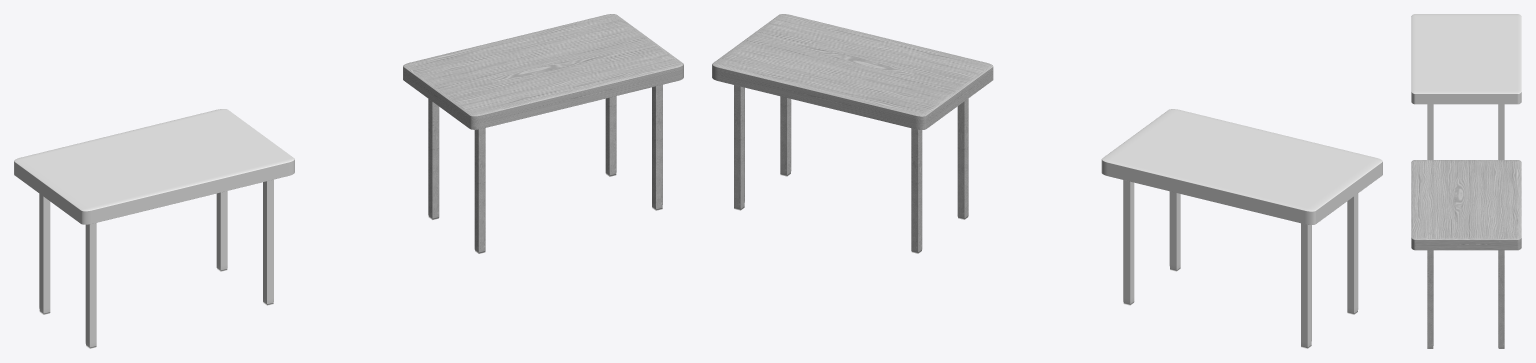
File: Table1.gltf
3 views of the same model, side by side, from view 1: azimuth 30°, elevation 25°; view 2: azimuth 150°, elevation 25°; view 3: azimuth 270°, elevation 25° (orthographic). The views are drawn at different scales.
Parts seen in each view (by area): view 1: Merged Objects, Merged Objects 1; view 2: Merged Objects 1, Merged Objects; view 3: Merged Objects, Merged Objects 1.
Part boxes in pixels (x1,y1,x2,y2): Merged Objects: [403, 14, 683, 253]; Merged Objects 1: [14, 109, 294, 348]; Merged Objects 1: [1101, 109, 1382, 348]; Merged Objects: [712, 14, 993, 253]; Merged Objects: [1411, 160, 1521, 348]; Merged Objects 1: [1411, 14, 1521, 159].
Size of the model in its own units: 0.3385 by 0.08 by 0.07.
2 materials, 1 textured.
